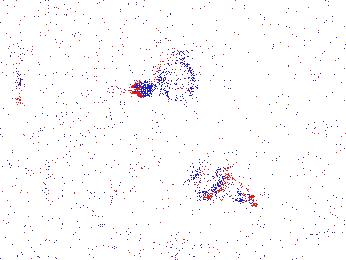flame jellyfish: (183, 152, 256, 208), (132, 57, 200, 103), (1, 171, 36, 227)
